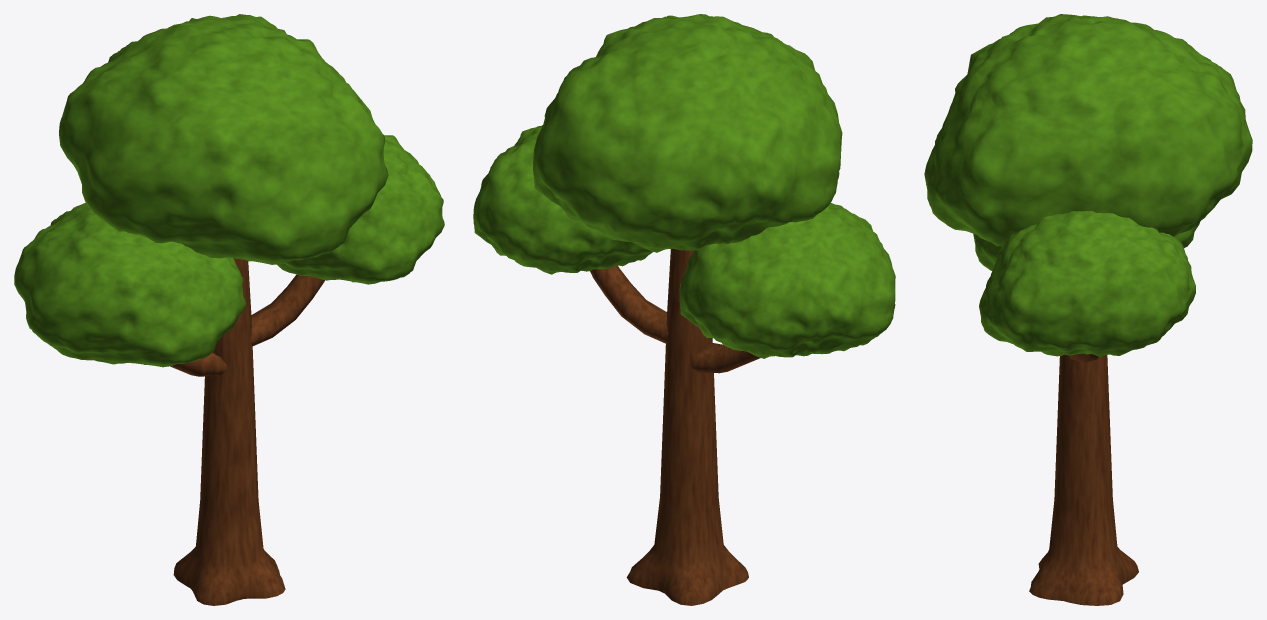
Rendered from tree-4.glb.
The picture shows the model from 3 angles, left to right: view 1: azimuth 30°, elevation 25°; view 2: azimuth 150°, elevation 25°; view 3: azimuth 270°, elevation 25°; orthographic projection.
Parts seen in each view (by area): view 1: Leaf 4A, Leaf 4C, Tree 4, Leaf 4B; view 2: Leaf 4A, Leaf 4C, Tree 4, Leaf 4B; view 3: Leaf 4A, Leaf 4B, Tree 4, Leaf 4C.
Part boxes in pixels (x1=…): Leaf 4A: x1=59, y1=14, x2=388, y2=264; Leaf 4C: x1=14, y1=202, x2=246, y2=367; Tree 4: x1=170, y1=258, x2=324, y2=605; Leaf 4B: x1=276, y1=134, x2=444, y2=284; Leaf 4A: x1=533, y1=14, x2=842, y2=252; Leaf 4C: x1=679, y1=203, x2=895, y2=358; Tree 4: x1=590, y1=248, x2=760, y2=605; Leaf 4B: x1=473, y1=125, x2=653, y2=274; Leaf 4A: x1=924, y1=14, x2=1252, y2=246; Leaf 4B: x1=979, y1=211, x2=1195, y2=356; Tree 4: x1=1029, y1=353, x2=1138, y2=605; Leaf 4C: x1=973, y1=223, x2=1199, y2=270.
Bounding box in the file's own units: 4.48 × 6.1 × 3.29.
2 materials, 2 textured.
